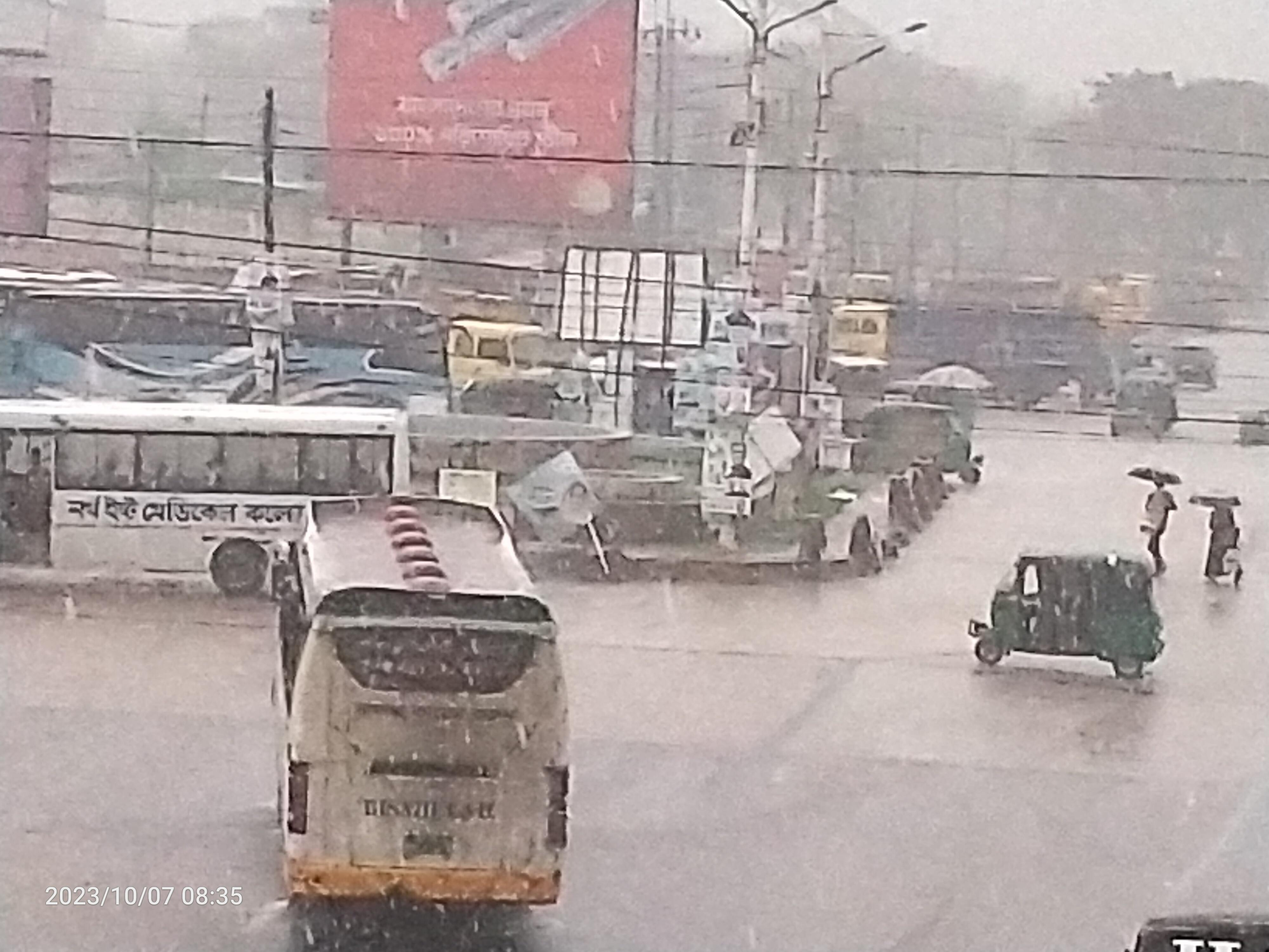Bus: (220, 465, 641, 952), (0, 367, 441, 619), (0, 261, 473, 489)
Truck: (808, 275, 1092, 436), (424, 288, 580, 471)
